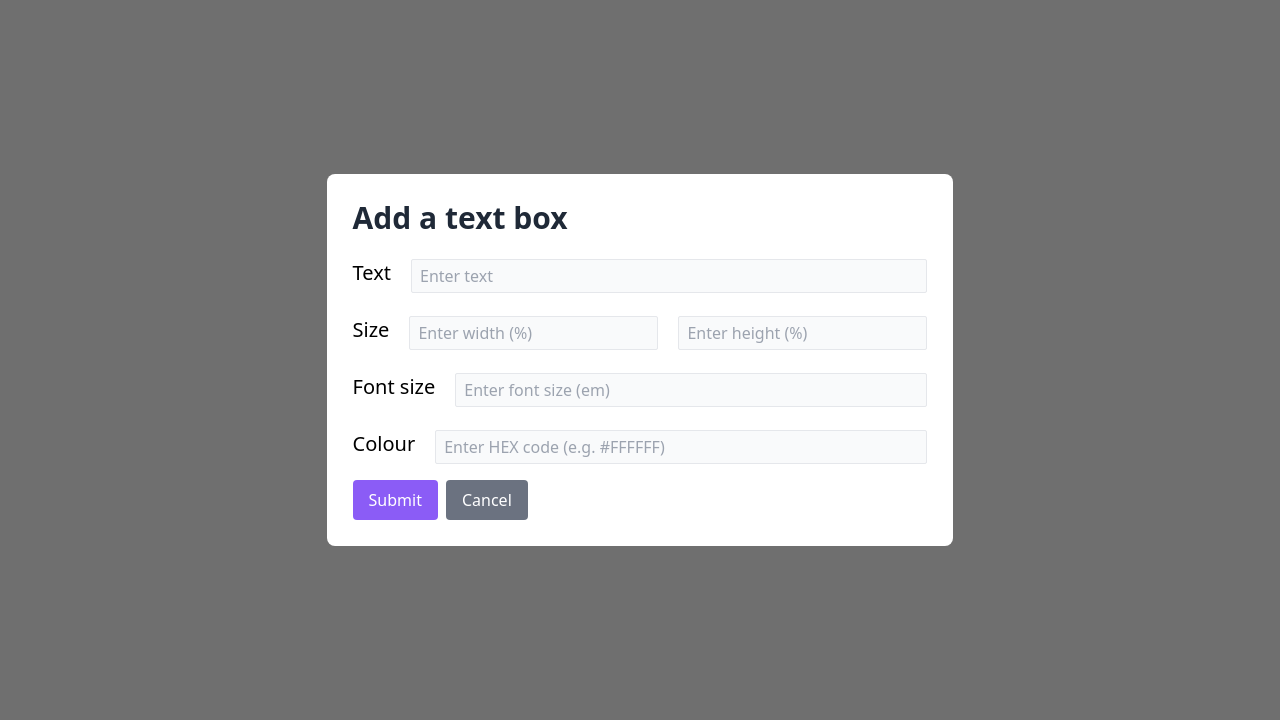
TextCreateModal › displays an error when submitting with empty text
Click the button "Submit": x=395, y=500 [353,480,438,520]
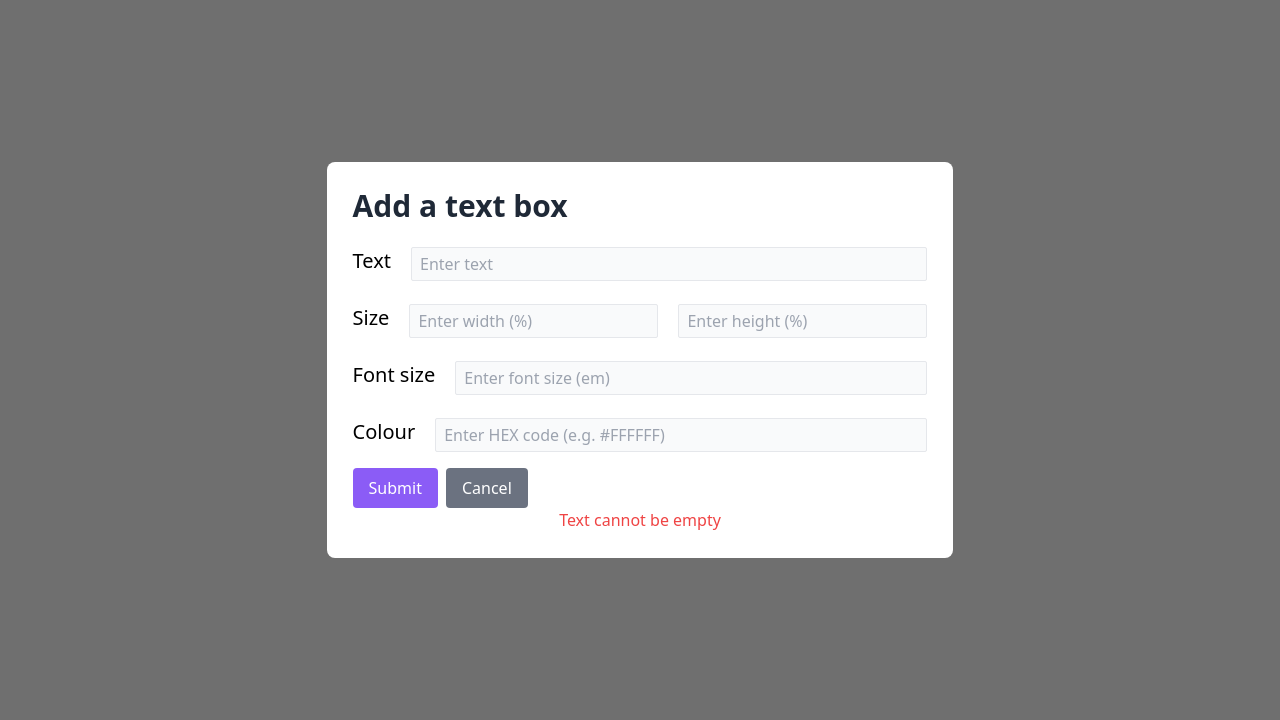
Check: the text "Text cannot be empty" is shown, box [559,508,721,532]
